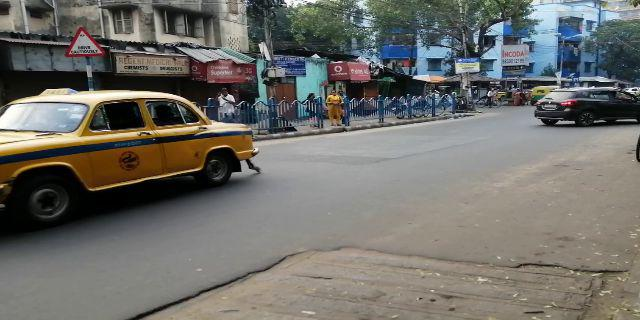Car: (9, 90, 258, 198), (538, 87, 637, 128)
